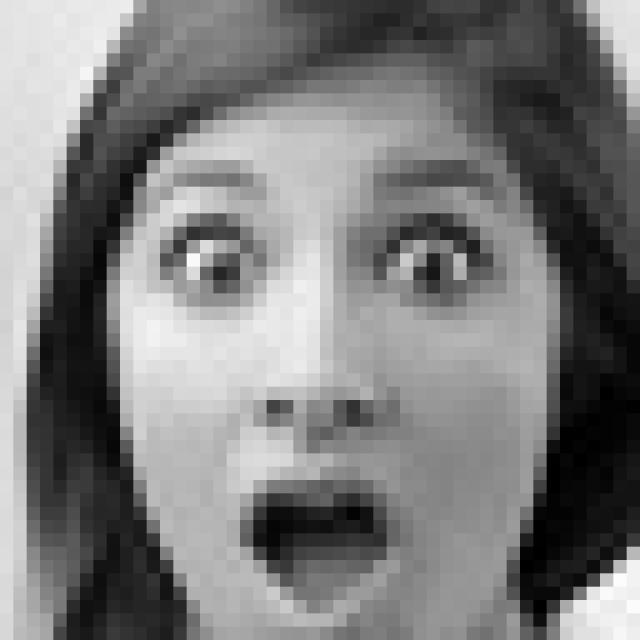surprise: (146, 150, 523, 632)
